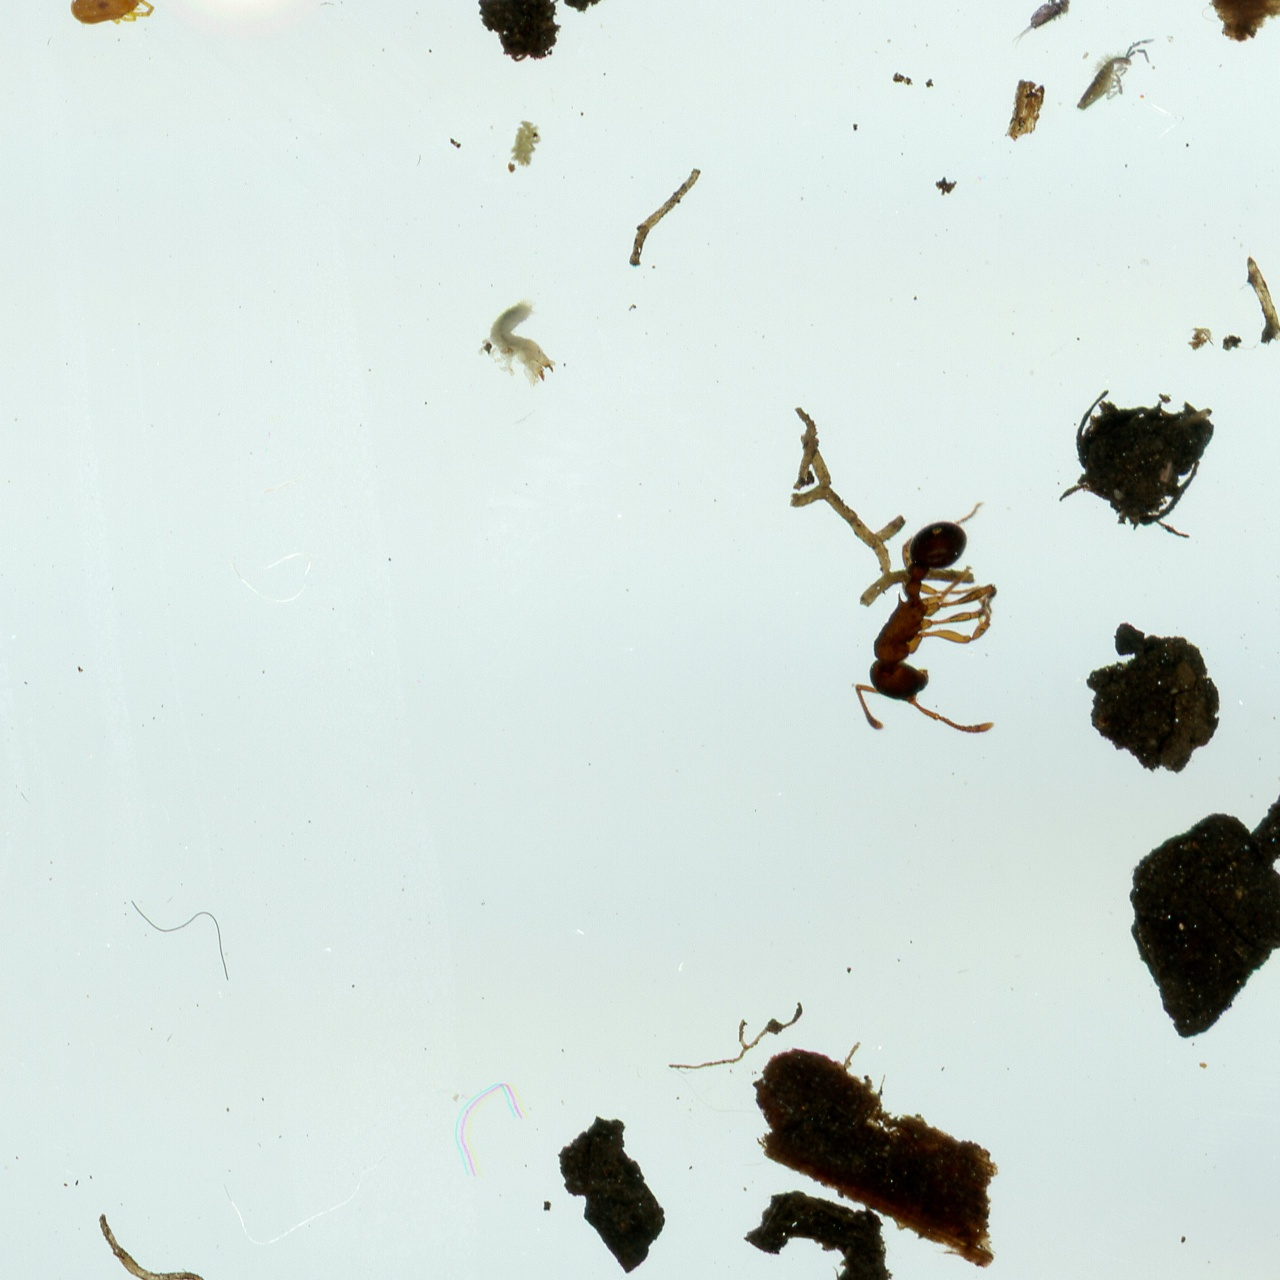arthropod: (845, 497, 1006, 744), (1055, 12, 1171, 147), (1000, 0, 1095, 63), (60, 0, 158, 27)
